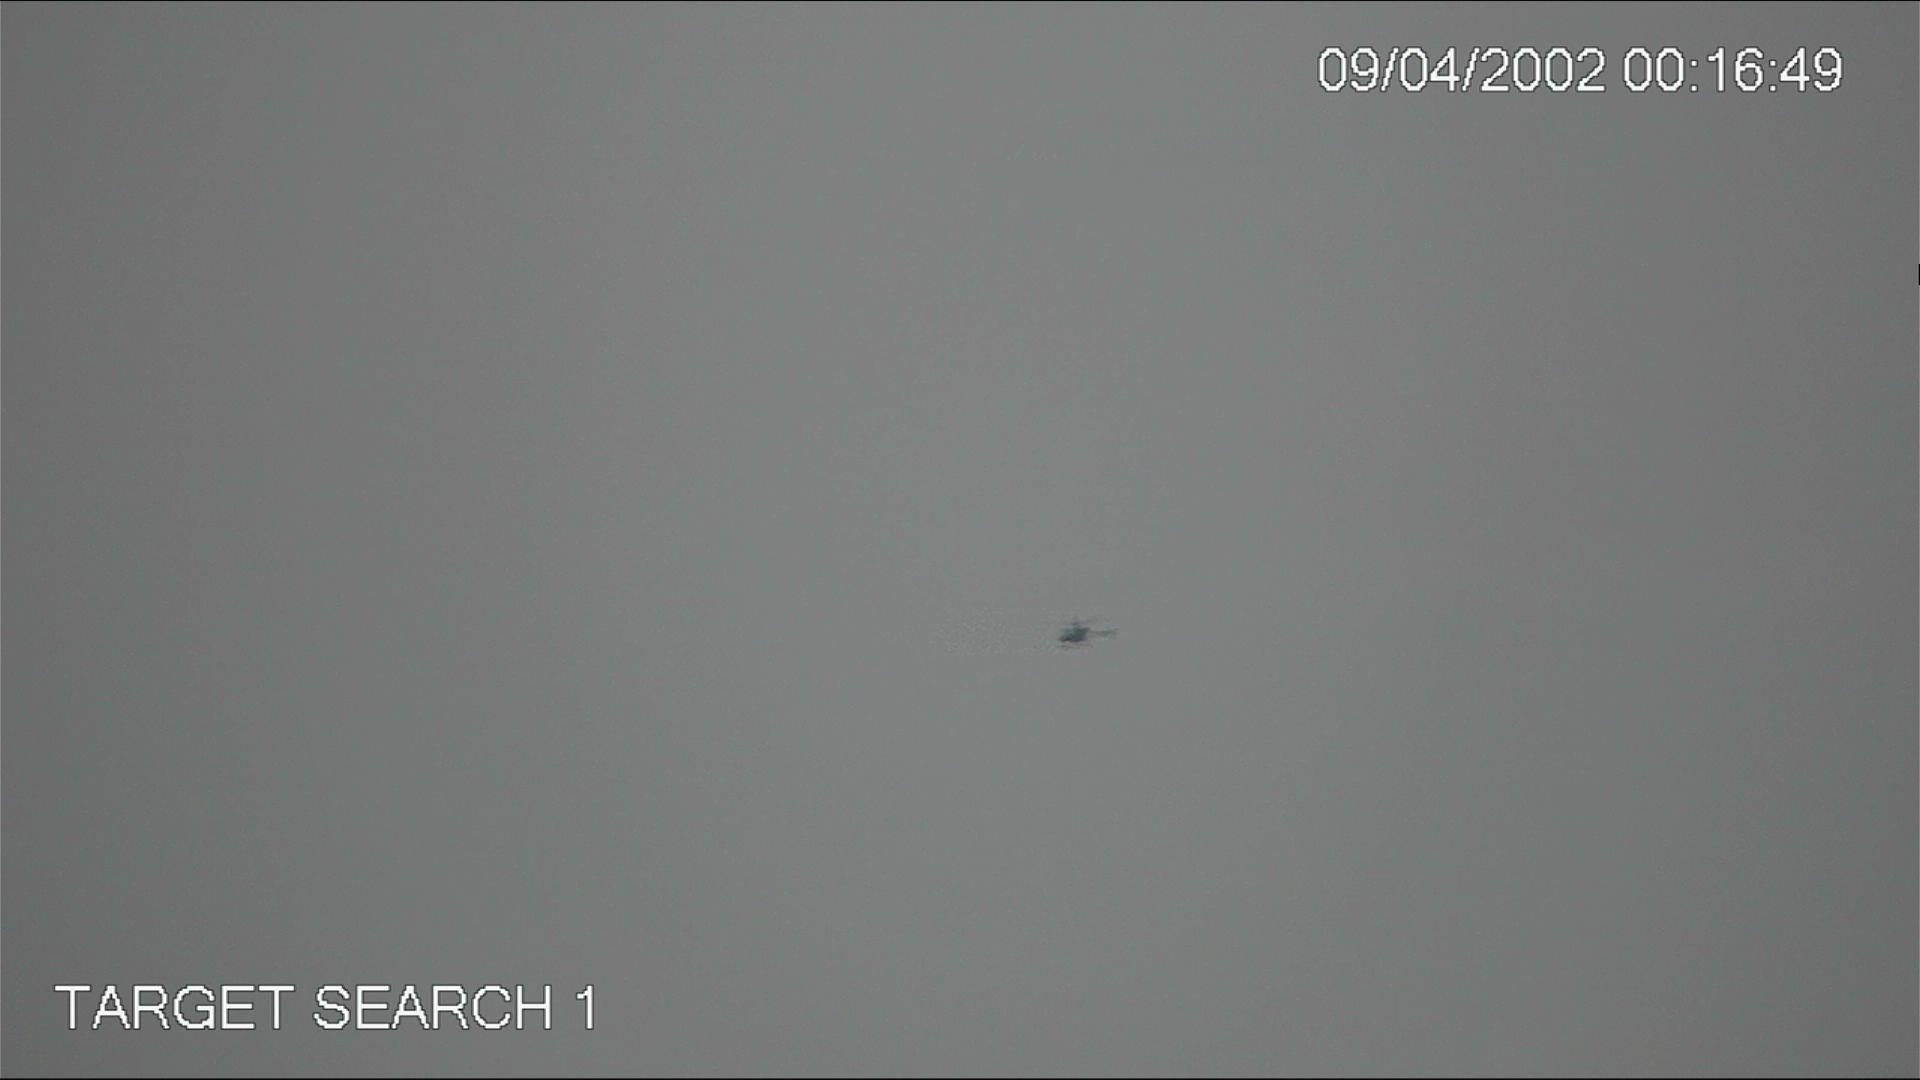SU_30: (1058, 622, 1091, 646)
